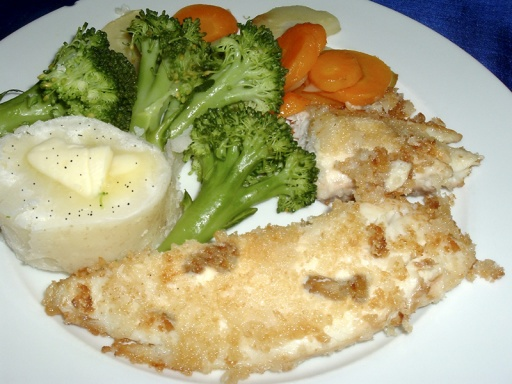background: (0, 1, 405, 230)
